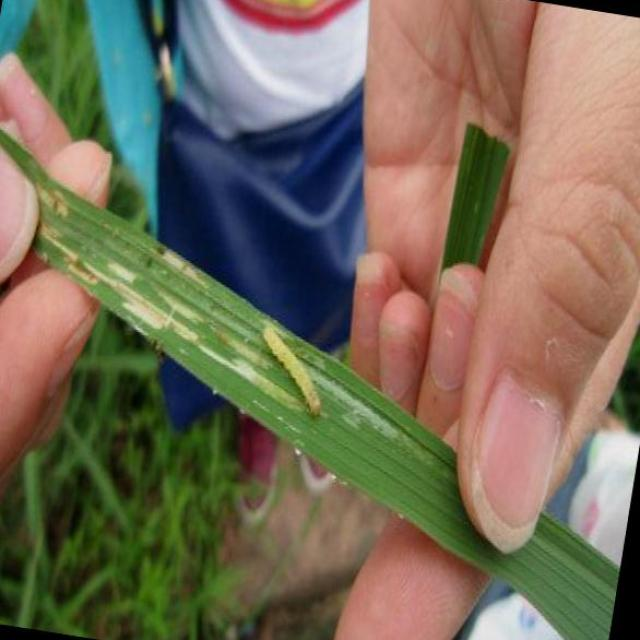leaf folder: (262, 322, 320, 415)
